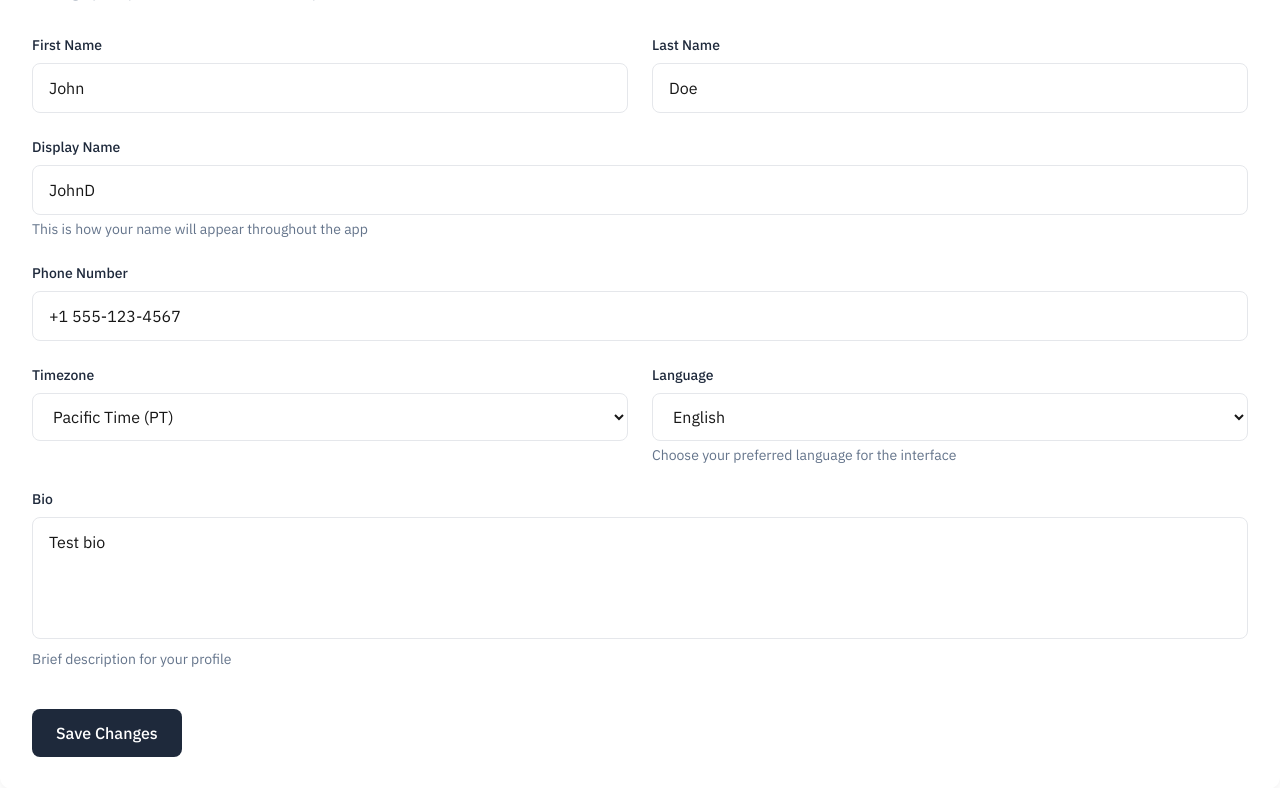
Test: ProfileSettingsPage › form interactions › should show success message after saving
(page scrolled)
Click the button "Save Changes": click(107, 733) [32,709,182,757]
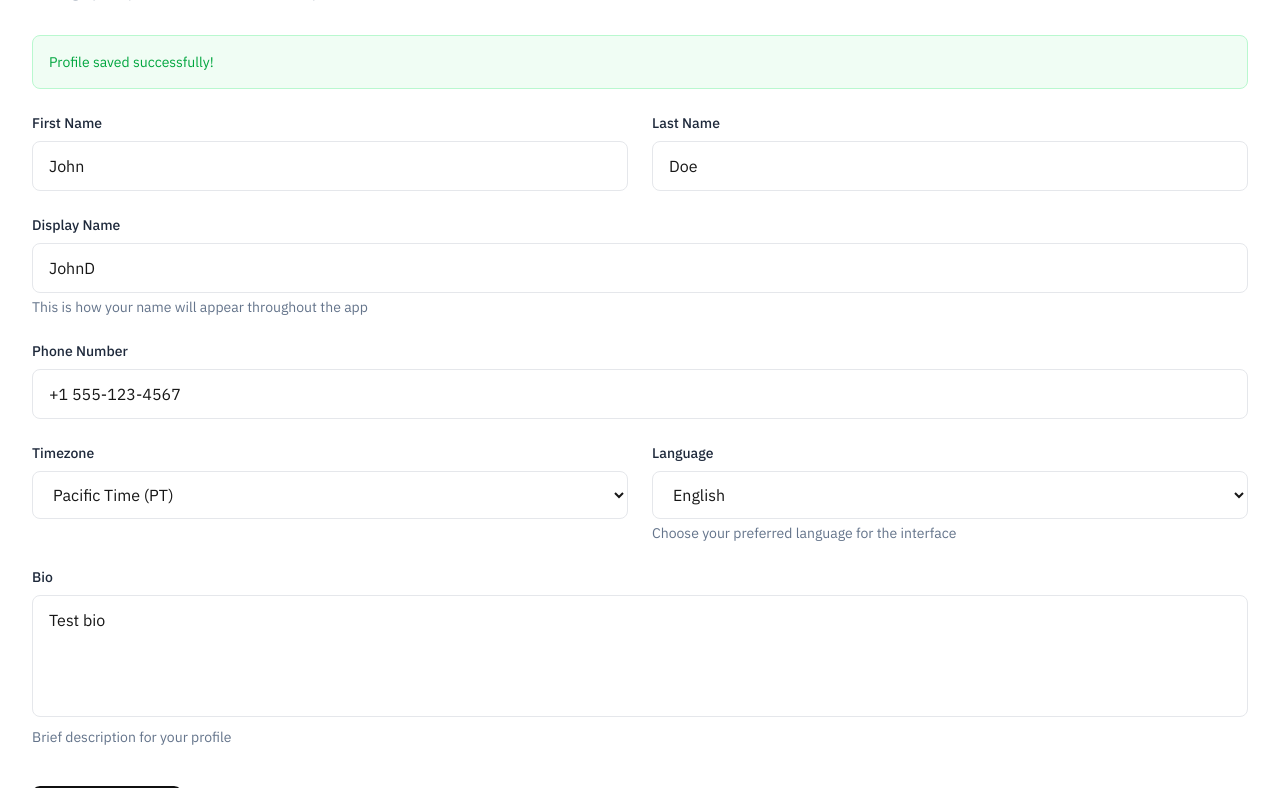
Check: the text "Profile saved successfully!" is shown, box [49,53,214,71]
